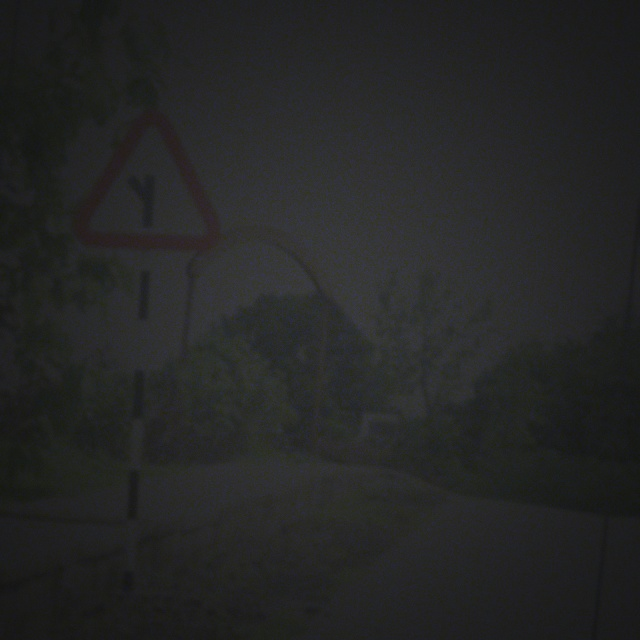Y_Intersection: (84, 107, 230, 252)
